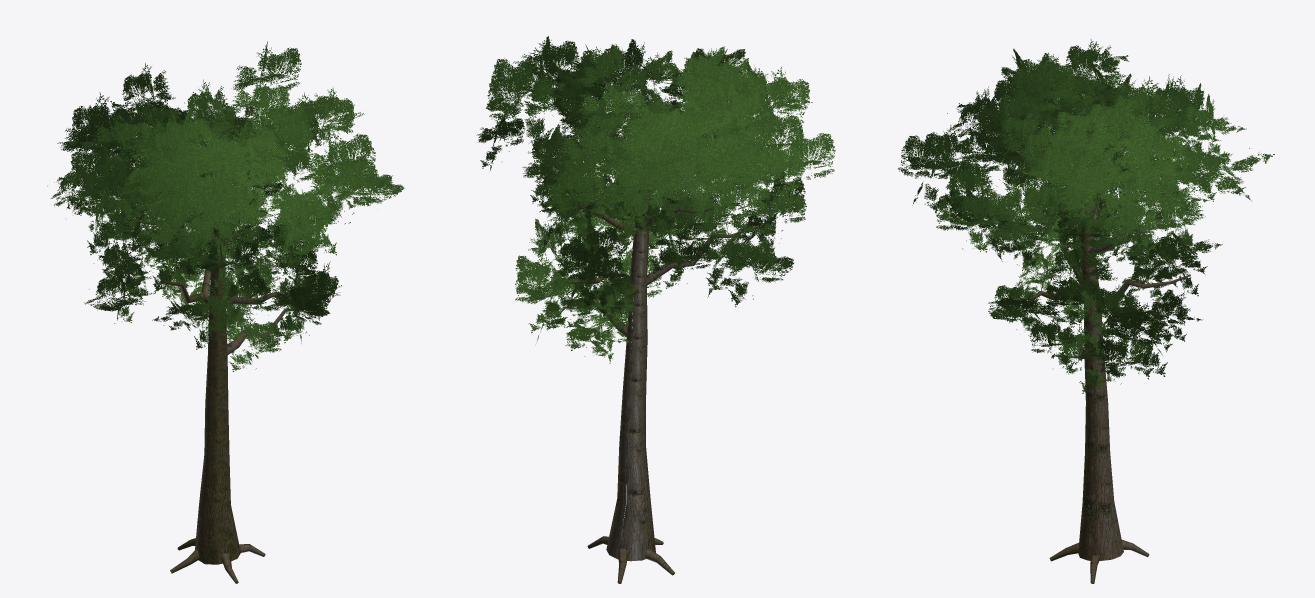
File: tree_broadleaf_b.glb
3 views of the same model, side by side, from view 1: azimuth 30°, elevation 25°; view 2: azimuth 150°, elevation 25°; view 3: azimuth 270°, elevation 25° (orthographic). The views are drawn at different scales.
Parts seen in each view (by area): view 1: tree_broadleaf_b; view 2: tree_broadleaf_b; view 3: tree_broadleaf_b.
Part boxes in pixels (box(x1,y1,x2,y2)): tree_broadleaf_b: box(47, 41, 404, 583); tree_broadleaf_b: box(476, 36, 835, 583); tree_broadleaf_b: box(898, 39, 1274, 583).
Size of the model in its own units: 9.92 by 13.63 by 10.6.
2 materials, 2 textured.
